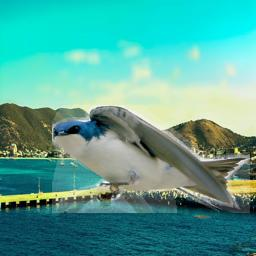Swallow: (52, 105, 250, 213)
